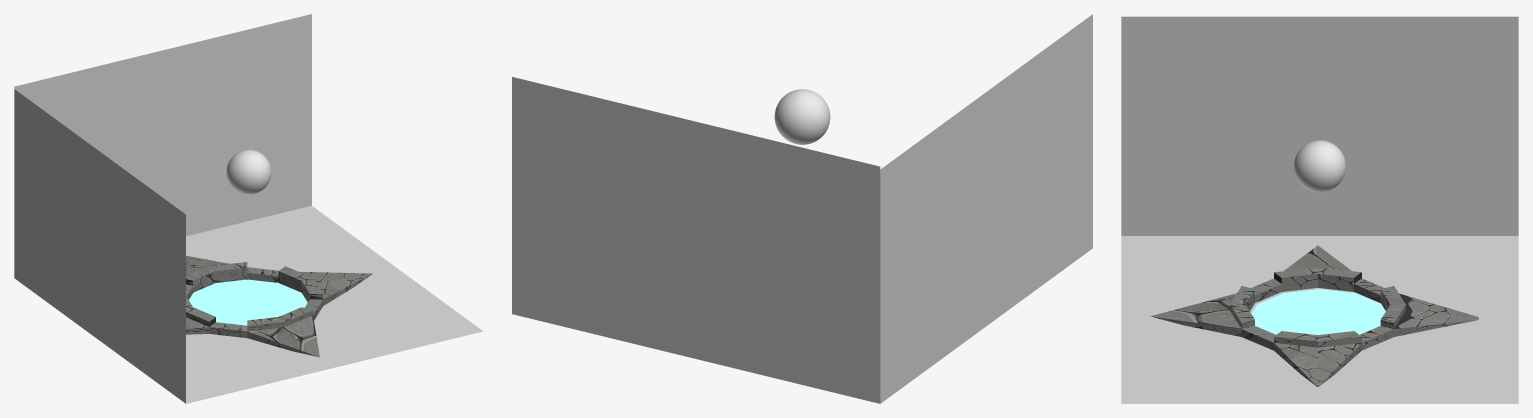
Rendered from checkpoint_01.fbx.
The picture shows the model from 3 angles, left to right: view 1: azimuth 30°, elevation 25°; view 2: azimuth 150°, elevation 25°; view 3: azimuth 270°, elevation 25°; orthographic projection. The views are drawn at different scales.
Parts seen in each view (by area): view 1: Plane, Cilindro, Cilindro.001, Sphere; view 2: Plane, Sphere; view 3: Plane, Cilindro, Cilindro.001, Sphere.
Boxes of the visible parts, x1=… form: Plane: x1=14, y1=14, x2=483, y2=403; Cilindro: x1=186, y1=255, x2=372, y2=357; Cilindro.001: x1=189, y1=279, x2=307, y2=325; Sphere: x1=226, y1=149, x2=271, y2=194; Plane: x1=512, y1=14, x2=1092, y2=403; Sphere: x1=774, y1=89, x2=830, y2=144; Plane: x1=1121, y1=16, x2=1518, y2=403; Cilindro: x1=1150, y1=245, x2=1478, y2=386; Cilindro.001: x1=1251, y1=289, x2=1385, y2=334; Sphere: x1=1294, y1=140, x2=1345, y2=192.
Bounding box in the file's own units: 452 × 283 × 452.
